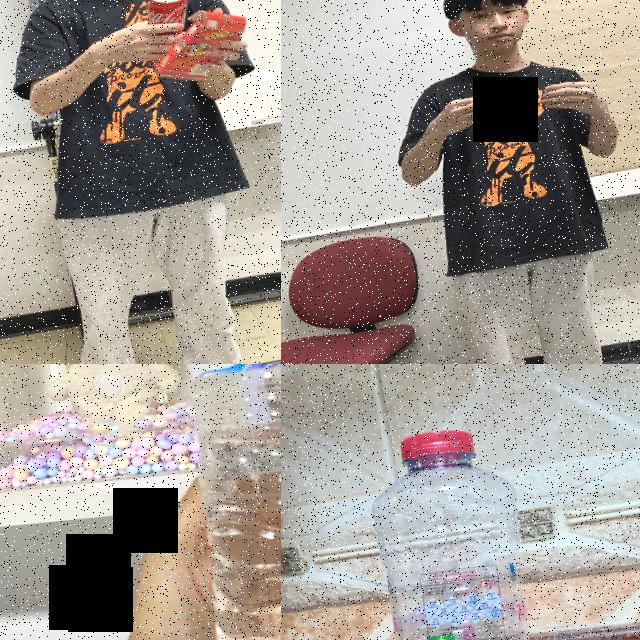bottle: (345, 417, 581, 640), (146, 364, 281, 640)
can: (136, 0, 196, 66)
